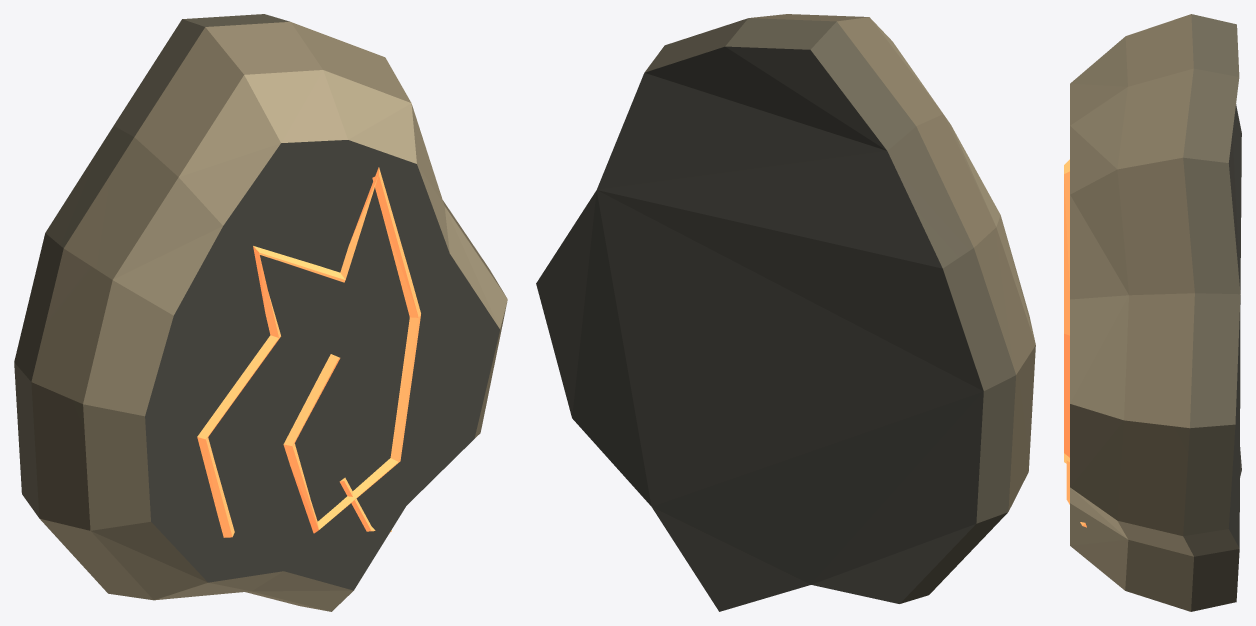
Rendered from FERNSTONE_EMBER.lo.glb.
3 views of the same model, side by side, from view 1: azimuth 30°, elevation 25°; view 2: azimuth 150°, elevation 25°; view 3: azimuth 270°, elevation 25° (orthographic). The views are drawn at different scales.
Parts seen in each view (by area): view 1: Body_Mesh; view 2: Body_Mesh; view 3: Body_Mesh.
Part boxes in pixels (<box>): Body_Mesh: <box>14,14,507,611</box>; Body_Mesh: <box>536,14,1035,611</box>; Body_Mesh: <box>1064,14,1241,611</box>.
Size of the model in its own units: 0.2902 by 0.3632 by 0.1054.
Materials: 1 (1 with a texture image).
